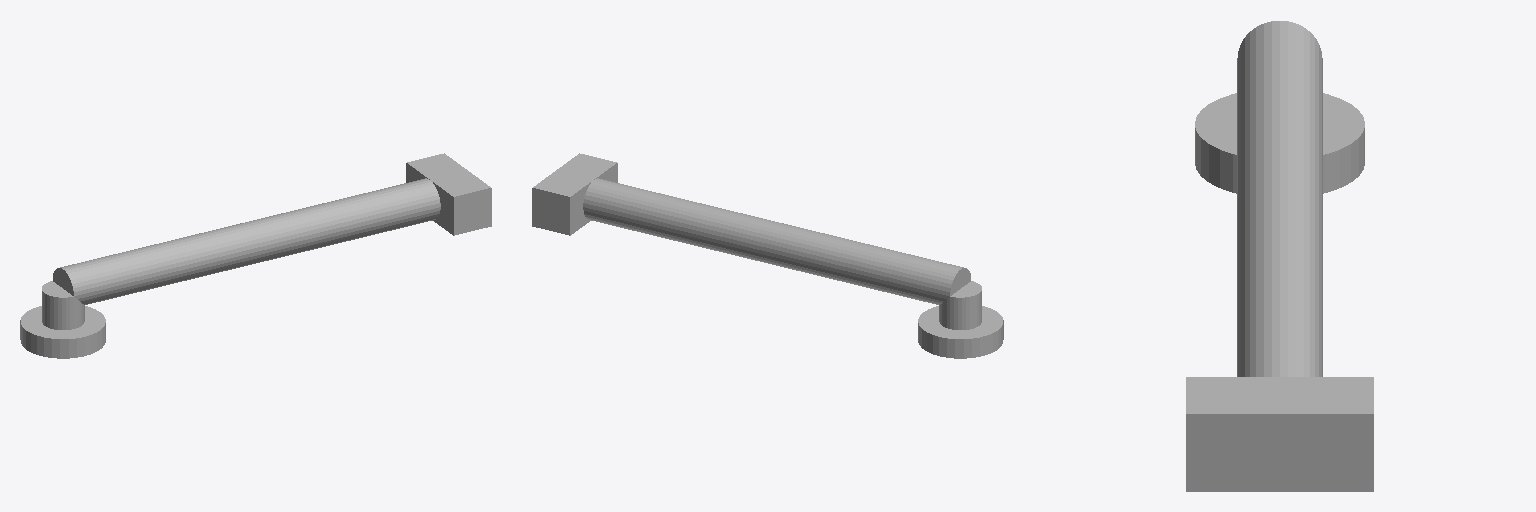
URDF robot description (URC):
<?xml version="1.0"?>
<robot name="URC">
  <link name="world"/>
 
 <link name="base_link">
    <visual>
      <geometry>
        <cylinder length="0.05" radius="0.1"/>
      </geometry>
      <material name="silver">
        <color rgba="0.75 0.75 0.75 1"/>
      </material>
      <origin rpy="0 0 0" xyz="0 0 0.025"/>
    </visual>
    <collision>
      <geometry>
        <cylinder length="0.05" radius="0.1"/>
      </geometry>
      <origin rpy="0 0 0" xyz="0 0 0.025"/>
    </collision>
    <inertial>
      <mass value="1.0"/>
      <origin rpy="0 0 0" xyz="0 0 0.025"/>
      <inertia ixx="0.0027" iyy="0.0027" izz="0.005" ixy="0" ixz="0" iyz="0"/>
    </inertial>
  </link>
  <joint name="fixed" type="fixed">
    <parent link="world"/>
    <child link="base_link"/>
  </joint>
  

<link name="torso">
    <visual>
      <geometry>
        <cylinder length="0.084" radius="0.05"/>
      </geometry>
      <material name="silver">
        <color rgba="0.75 0.75 0.75 1"/>
      </material>
      <origin rpy="0 0 0" xyz="0 0 0.042"/>
    </visual>
    <collision>
      <geometry>
        <cylinder length="0.084" radius="0.05"/>
      </geometry>
      <origin rpy="0 0 0" xyz="0 0 0.042"/>
    </collision>
    <inertial>
      <mass value="1.0"/>
      <origin rpy="0 0 0" xyz="0 0 0.042"/>
      <inertia ixx="0.02146" iyy="0.02146" izz="0.00125" ixy="0" ixz="0" iyz="0"/>
    </inertial>
  </link>
  
<joint name="hip" type="continuous">
    <axis xyz="0 0 1"/>
    <parent link="base_link"/>
    <child link="torso"/>
    <origin rpy="0 0 0" xyz="0.0 0.0 0.05"/>
  </joint>

<link name="upper_arm">
    <visual>
      <geometry>
        <cylinder length="0.5584" radius="0.05"/>
      </geometry>
      <material name="silver"/>
      <origin rpy="0 0 0" xyz="0 0 0.2792"/>
    </visual>
    <collision>
      <geometry>
        <cylinder length="0.5584" radius="0.05"/>
      </geometry>
      <origin rpy="0 0 0" xyz="0 0 0.2792"/>
    </collision>
    <inertial>
      <mass value="1.0"/>
      <origin rpy="0 0 0" xyz="0 0 0.2792"/>
      <inertia ixx="0.01396" iyy="0.01396" izz="0.00125" ixy="0" ixz="0" iyz="0"/>
    </inertial>
  </link>
  <joint name="shoulder" type="continuous">
    <axis xyz="0 1 0"/>
    <parent link="torso"/>
    <child link="upper_arm"/>
    <origin rpy="0 1.5708 0" xyz="0.0 0 0.084"/>
  </joint>

 <link name="lower_arm">
    <visual>
      <geometry>
        <cylinder length="0.3673" radius="0.05"/>
      </geometry>
      <material name="silver"/>
      <origin rpy="0 0 0" xyz="0 0 0.18365"/>
    </visual>
    <collision>
      <geometry>
        <cylinder length="0.3673" radius="0.05"/>
      </geometry>
      <origin rpy="0 0 0" xyz="0 0 0.18365"/>
    </collision>
    <inertial>
      <mass value="1.0"/>
      <origin rpy="0 0 0" xyz="0 0 0.18365"/>
      <inertia ixx="0.01396" iyy="0.01396" izz="0.00125" ixy="0" ixz="0" iyz="0"/>
    </inertial>
  </link>
  <joint name="elbow" type="continuous">
    <axis xyz="0 1 0"/>
    <parent link="upper_arm"/>
    <child link="lower_arm"/>
    <origin rpy="0 0 0" xyz="0.0 0 0.5584"/>
  </joint>

<link name="hand">
    <visual>
      <geometry>
        <cylinder length="0.064" radius="0.05"/>
      </geometry>
      <material name="silver"/>
	<origin rpy="0 0 0" xyz="0 0 0.032"/>
    </visual>
    <collision>
      <geometry>
        <cylinder length="0.064" radius="0.05"/>
      </geometry>
	<origin rpy="0 0 0" xyz="0 0 0.032"/>
    </collision>
    <inertial>
      <mass value="1.0"/>
      <inertia ixx="0.00042" iyy="0.00042" izz="0.00042" ixy="0" ixz="0" iyz="0"/>
    </inertial>
  </link>
  <joint name="wrist" type="continuous">
    <axis xyz="0 1 0"/>
    <parent link="lower_arm"/>
    <child link="hand"/>
    <origin rpy="0 0 0" xyz="0.0 0.0 0.3673"/>
  </joint>

<link name="hand2">
    <visual>
      <geometry>
        <box size="0.1 0.22 0.1025"/>
      </geometry>
      <material name="silver"/>
    </visual>
    <collision>
      <geometry>
        <box size="0.1 0.22 0.1025"/>
      </geometry>
    </collision>
  </link>

  <joint name="wrist2" type="continuous">
    <axis xyz="0 0 1"/>
    <parent link="hand"/>
    <child link="hand2"/>
    <origin rpy="0 0 0" xyz="0.0 0.0 0.11525"/>
  </joint>



<transmission name="tran0">
    <type>transmission_interface/SimpleTransmission</type>
    <joint name="hip">
      <hardwareInterface>PositionJointInterface</hardwareInterface>
    </joint>
    <actuator name="motor0">
      <hardwareInterface>PositionJointInterface</hardwareInterface>
      <mechanicalReduction>1</mechanicalReduction>
    </actuator>
  </transmission>
  <transmission name="tran1">
    <type>transmission_interface/SimpleTransmission</type>
    <joint name="shoulder">
      <hardwareInterface>PositionJointInterface</hardwareInterface>
    </joint>
    <actuator name="motor1">
      <hardwareInterface>PositionJointInterface</hardwareInterface>
      <mechanicalReduction>1</mechanicalReduction>
    </actuator>
  </transmission>
  <transmission name="tran2">
    <type>transmission_interface/SimpleTransmission</type>
    <joint name="elbow">
      <hardwareInterface>PositionJointInterface</hardwareInterface>
    </joint>
    <actuator name="motor2">
      <hardwareInterface>PositionJointInterface</hardwareInterface>
      <mechanicalReduction>1</mechanicalReduction>
    </actuator>
  </transmission>
  <transmission name="tran3">
    <type>transmission_interface/SimpleTransmission</type>
    <joint name="wrist">
      <hardwareInterface>PositionJointInterface</hardwareInterface>
    </joint>
    <actuator name="motor3">
      <hardwareInterface>PositionJointInterface</hardwareInterface>
      <mechanicalReduction>1</mechanicalReduction>
    </actuator>
  </transmission>
  <gazebo>
    <plugin name="control" filename="libgazebo_ros_control.so"/>
  </gazebo>
  <gazebo>
    <plugin name="joint_state_publisher" filename="libgazebo_ros_joint_state_publisher.so">
      <jointName>hip, shoulder, elbow, wrist</jointName>
    </plugin>
  </gazebo>
</robot>

--- Facts derived from the render (not from the file) ---
Views: 3 orthographic renders of the robot side by side, from view 1: azimuth 30°, elevation 25°; view 2: azimuth 150°, elevation 25°; view 3: azimuth 270°, elevation 25°.
Model URC with 7 links and 6 joints (5 continuous, 1 fixed), rooted at world, posed every joint at zero.
Links seen in each view (by area): view 1: upper_arm, lower_arm, hand2, base_link, torso, hand; view 2: upper_arm, lower_arm, hand2, base_link, torso, hand; view 3: hand2, upper_arm, lower_arm, base_link, hand.
Link boxes in pixels (x1,y1,x2,y2): upper_arm: [53, 217, 280, 304]; lower_arm: [267, 184, 416, 258]; hand2: [406, 153, 491, 235]; base_link: [20, 306, 105, 358]; torso: [42, 281, 84, 329]; hand: [404, 178, 440, 224]; upper_arm: [743, 217, 970, 304]; lower_arm: [607, 184, 756, 258]; hand2: [532, 153, 617, 235]; base_link: [918, 306, 1003, 358]; torso: [939, 281, 981, 329]; hand: [583, 178, 619, 224]; hand2: [1186, 377, 1373, 491]; upper_arm: [1237, 21, 1322, 258]; lower_arm: [1237, 222, 1322, 376]; base_link: [1195, 93, 1364, 193]; hand: [1242, 354, 1317, 376].
Bounding box of the posed robot: 1.19 × 0.22 × 0.184 m (x, y, z).
Geometry: primitives only (box / cylinder / sphere), no mesh files.